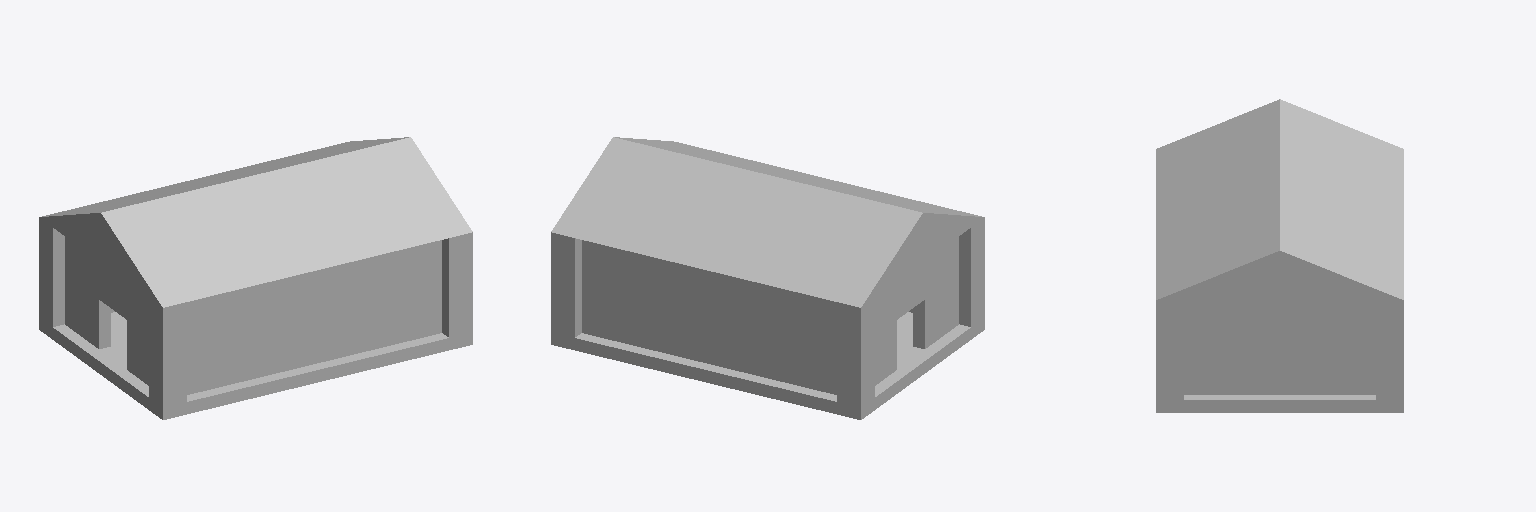
Rendered from konnas_house.obj.
3 renders of one model, left to right at view 1: azimuth 30°, elevation 25°; view 2: azimuth 150°, elevation 25°; view 3: azimuth 270°, elevation 25°, orthographic.
Visible parts, largest first — view 1: entity0_brush18, entity0_brush1, entity0_brush19, entity0_brush14, entity0_brush15, entity0_brush17, entity0_brush6, entity0_brush8, entity0_brush20, entity0_brush11, entity0_brush9; view 2: entity0_brush18, entity0_brush19, entity0_brush21, entity0_brush2, entity0_brush3, entity0_brush17, entity0_brush5, entity0_brush16, entity0_brush4, entity0_brush14, entity0_brush9, entity0_brush11 (+3 smaller); view 3: entity0_brush18, entity0_brush0, entity0_brush19, entity0_brush15, entity0_brush16.
Boxes of the visible parts, box(x1,y1,x2,y2) form: entity0_brush18: box(39, 137, 472, 307); entity0_brush1: box(187, 240, 441, 394); entity0_brush19: box(39, 312, 472, 419); entity0_brush14: box(149, 298, 186, 407); entity0_brush15: box(442, 232, 472, 337); entity0_brush17: box(39, 218, 64, 326); entity0_brush6: box(65, 237, 84, 338); entity0_brush8: box(85, 277, 110, 348); entity0_brush20: box(85, 252, 139, 316); entity0_brush11: box(127, 308, 139, 378); entity0_brush9: box(140, 292, 148, 385); entity0_brush18: box(551, 137, 984, 307); entity0_brush19: box(551, 312, 984, 419); entity0_brush21: box(641, 273, 783, 356); entity0_brush2: box(582, 240, 640, 346); entity0_brush3: box(784, 289, 836, 394); entity0_brush17: box(837, 298, 874, 407); entity0_brush5: box(641, 323, 783, 381); entity0_brush16: box(551, 232, 581, 337); entity0_brush4: box(641, 254, 783, 306); entity0_brush14: box(959, 218, 984, 326); entity0_brush9: box(939, 237, 958, 338); entity0_brush11: box(913, 277, 938, 348); entity0_brush18: box(1156, 99, 1403, 299); entity0_brush0: box(1184, 300, 1375, 394); entity0_brush19: box(1156, 395, 1403, 412); entity0_brush15: box(1156, 300, 1183, 399); entity0_brush16: box(1376, 300, 1403, 399).
Size of the model in its own units: 208 by 104 by 144.